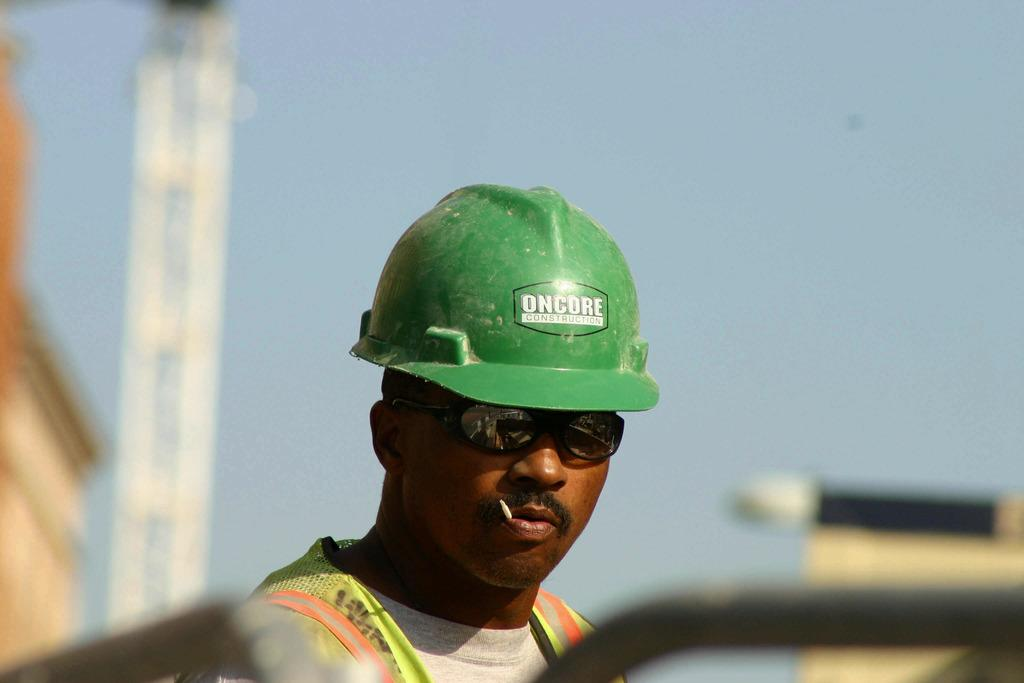helmet: (351, 182, 661, 583)
